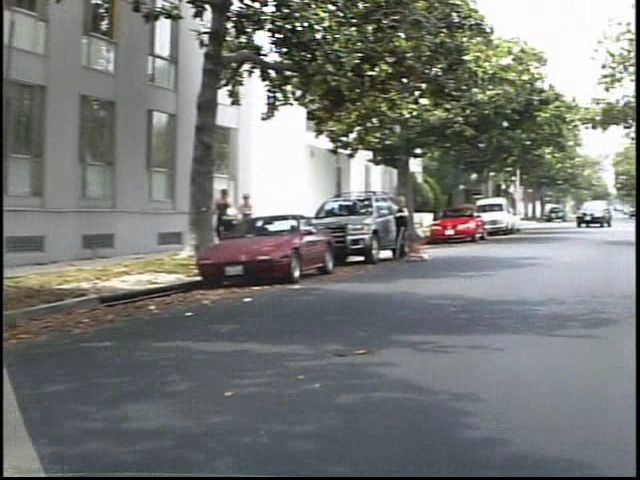person: (400, 193, 431, 269), (226, 184, 253, 252), (250, 189, 272, 250)
